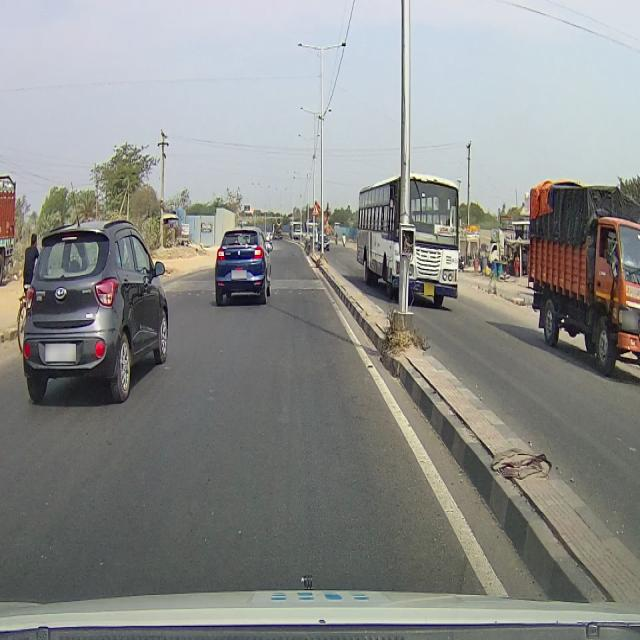car ahead at: (28, 224, 173, 400), (204, 216, 273, 310)
